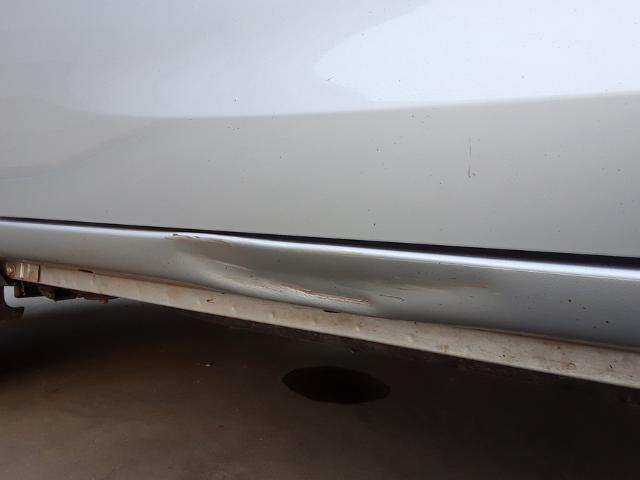Bumper: (0, 214, 640, 386)
